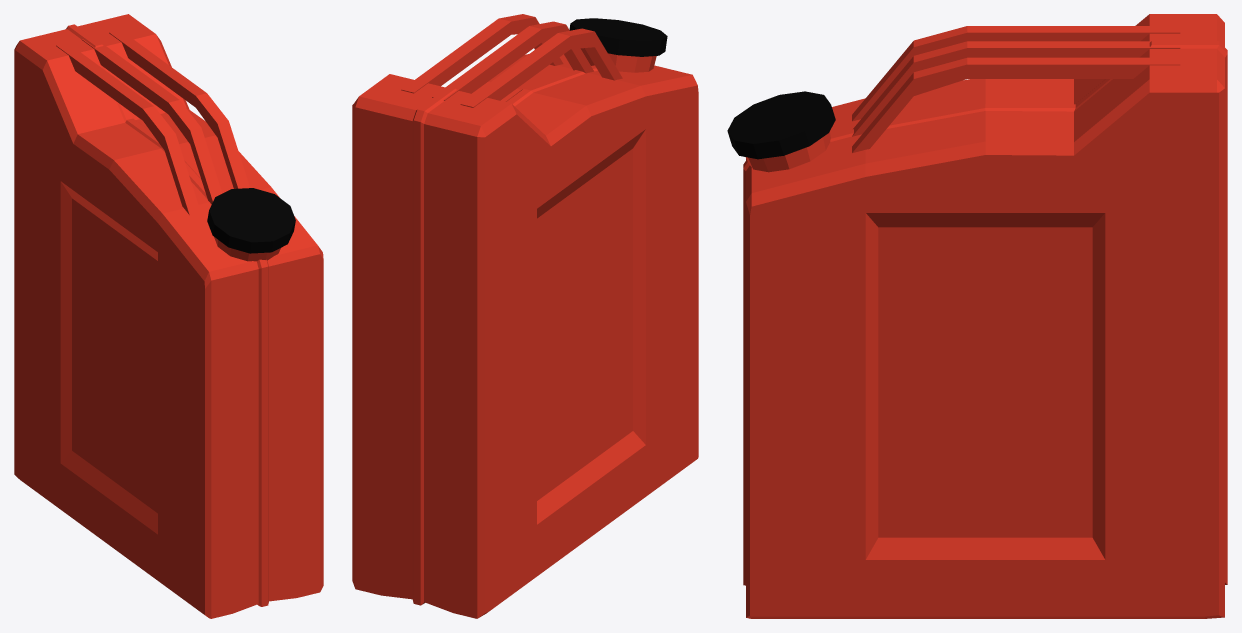
File: Fuel.fbx
3 views of the same model, side by side, from view 1: azimuth 30°, elevation 25°; view 2: azimuth 150°, elevation 25°; view 3: azimuth 270°, elevation 25° (orthographic). The views are drawn at different scales.
Parts seen in each view (by area): view 1: Cube; view 2: Cube; view 3: Cube.
Boxes of the visible parts, box(x1,y1,x2,y2) form: Cube: box(14, 14, 323, 618); Cube: box(352, 14, 698, 618); Cube: box(727, 14, 1227, 618).
Bounding box in the file's own units: 56.94 × 202 × 169.
